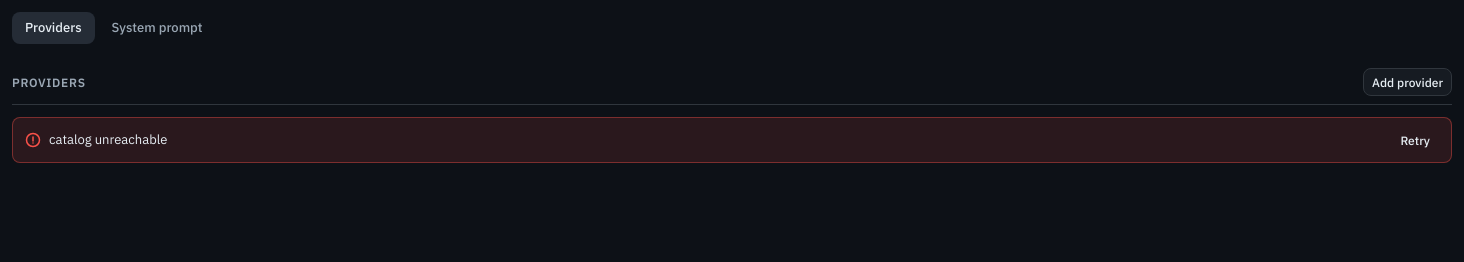
SettingsPanel providers › shows a retry when the provider list fails, and recovers on retry
The width and height of the screenshot is (1464, 262).
Expected: the message shows "catalog unreachable", [49,131,167,148]
What coordinates should you click on to do the following:
click the button "Retry"
I would click on:
 (1415, 140)
Its box is [1391,126,1439,154].
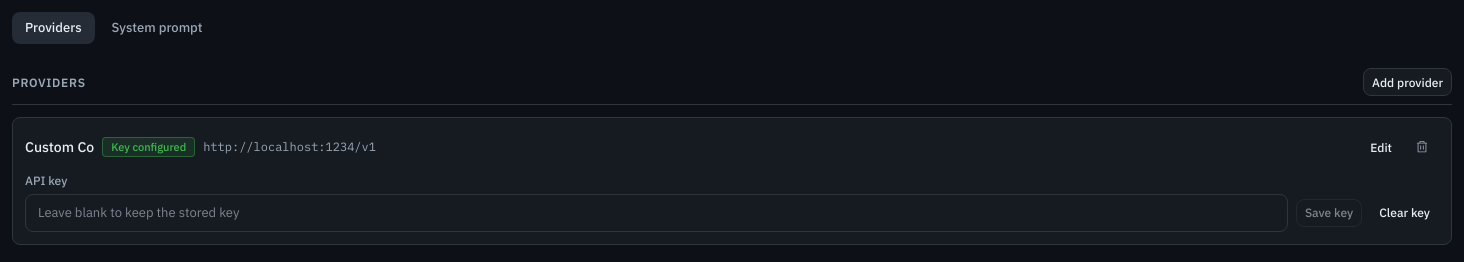
Result: the text "catalog unreachable" is gone
